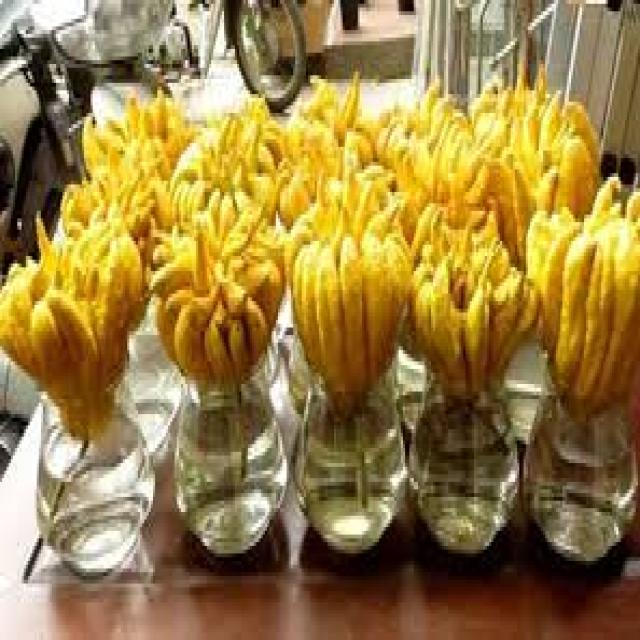PhatThu: (4, 219, 150, 443), (154, 204, 286, 390), (291, 205, 405, 406), (526, 208, 638, 409), (418, 226, 527, 415)
